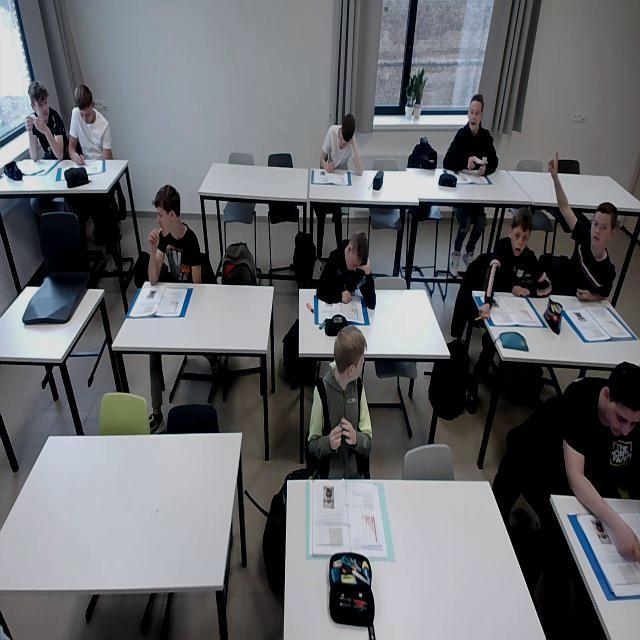Looking away: (152, 183, 184, 240), (28, 82, 51, 121)
Looking forward: (510, 212, 531, 260), (468, 94, 483, 130)
Raising hand: (547, 151, 617, 305)
Reading-writing: (564, 358, 640, 565), (314, 234, 380, 312), (68, 85, 114, 174), (322, 115, 364, 180)
Turning around: (304, 325, 376, 478)
